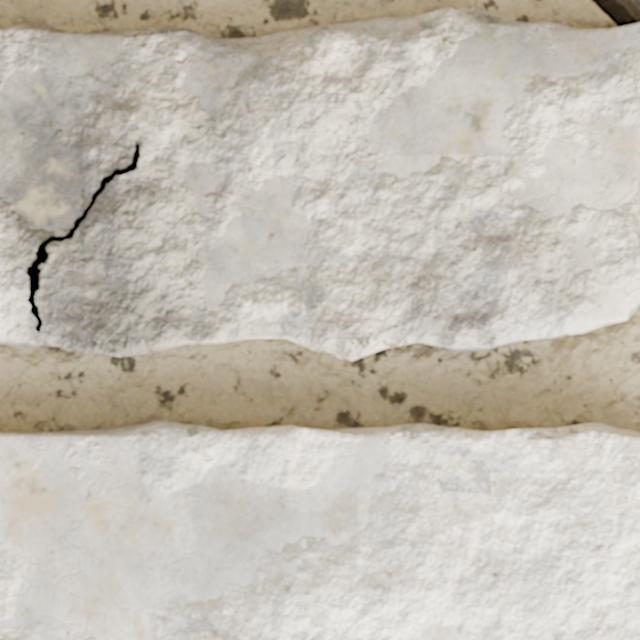brick: (0, 8, 639, 360), (0, 420, 639, 639)
crack: (590, 0, 639, 27)
